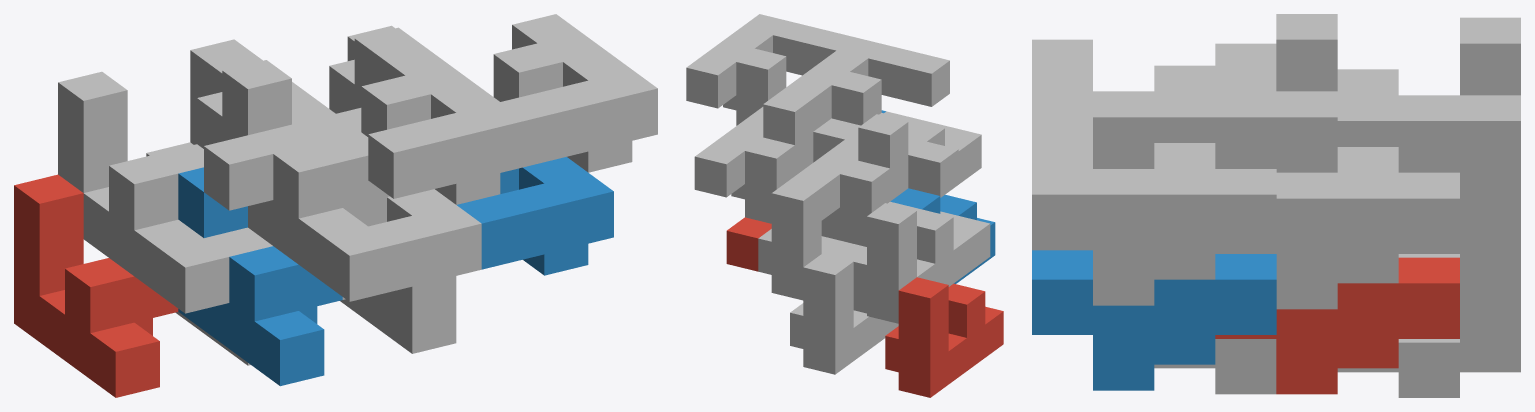
File: tiling.obj
3 views of the same model, side by side, from view 1: azimuth 30°, elevation 25°; view 2: azimuth 150°, elevation 25°; view 3: azimuth 270°, elevation 25° (orthographic). The views are drawn at different scales.
Parts seen in each view (by area): view 1: copy_1_domain_1, copy_2_domain_4, copy_2_domain_8, copy_1_domain_3, copy_1_domain_4, copy_1_domain_2, copy_2_domain_2, copy_2_domain_6, copy_2_domain_3, copy_2_domain_1, copy_1_domain_6, copy_1_domain_7 (+2 smaller); view 2: copy_1_domain_1, copy_2_domain_8, copy_2_domain_4, copy_1_domain_3, copy_2_domain_3, copy_2_domain_7, copy_1_domain_5, copy_1_domain_7, copy_1_domain_4, copy_1_domain_8, copy_1_domain_2, copy_2_domain_1 (+2 smaller); view 3: copy_2_domain_8, copy_2_domain_7, copy_2_domain_6, copy_2_domain_4, copy_2_domain_5, copy_2_domain_3, copy_1_domain_7, copy_1_domain_5, copy_1_domain_8, copy_1_domain_4, copy_1_domain_3, copy_1_domain_6.
Boxes of the visible parts, x1=… form: copy_1_domain_1: x1=14, y1=174, x2=178, y2=397; copy_2_domain_4: x1=361, y1=46, x2=525, y2=204; copy_2_domain_8: x1=493, y1=14, x2=657, y2=172; copy_1_domain_3: x1=58, y1=71, x2=203, y2=294; copy_1_domain_4: x1=222, y1=60, x2=386, y2=282; copy_1_domain_2: x1=178, y1=167, x2=342, y2=386; copy_2_domain_2: x1=324, y1=189, x2=481, y2=307; copy_2_domain_6: x1=457, y1=157, x2=613, y2=275; copy_2_domain_3: x1=197, y1=58, x2=360, y2=210; copy_2_domain_1: x1=160, y1=227, x2=272, y2=313; copy_1_domain_6: x1=340, y1=292, x2=456, y2=353; copy_1_domain_7: x1=190, y1=39, x2=259, y2=144; copy_1_domain_1: x1=885, y1=277, x2=1003, y2=397; copy_2_domain_8: x1=686, y1=14, x2=854, y2=125; copy_2_domain_4: x1=782, y1=37, x2=949, y2=131; copy_1_domain_3: x1=853, y1=201, x2=971, y2=323; copy_2_domain_3: x1=790, y1=130, x2=958, y2=246; copy_2_domain_7: x1=694, y1=107, x2=860, y2=223; copy_1_domain_5: x1=790, y1=254, x2=898, y2=374; copy_1_domain_7: x1=758, y1=180, x2=839, y2=300; copy_1_domain_4: x1=858, y1=113, x2=963, y2=201; copy_1_domain_8: x1=763, y1=91, x2=813, y2=175; copy_1_domain_2: x1=890, y1=188, x2=995, y2=283; copy_2_domain_1: x1=822, y1=211, x2=990, y2=269; copy_2_domain_8: x1=1032, y1=117, x2=1276, y2=305; copy_2_domain_7: x1=1215, y1=147, x2=1459, y2=309; copy_2_domain_6: x1=1032, y1=250, x2=1276, y2=390; copy_2_domain_4: x1=1032, y1=39, x2=1276, y2=168; copy_2_domain_5: x1=1215, y1=257, x2=1459, y2=394; copy_2_domain_3: x1=1215, y1=43, x2=1459, y2=172; copy_1_domain_7: x1=1398, y1=95, x2=1520, y2=287; copy_1_domain_5: x1=1337, y1=287, x2=1520, y2=397; copy_1_domain_8: x1=1276, y1=91, x2=1337, y2=172; copy_1_domain_4: x1=1276, y1=14, x2=1337, y2=91; copy_1_domain_3: x1=1460, y1=17, x2=1520, y2=95; copy_1_domain_6: x1=1154, y1=339, x2=1276, y2=394.
Size of the model in its own units: 10 by 6 by 8.
